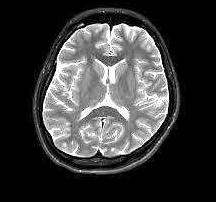Normal_Brain: (2, 1, 191, 186)
